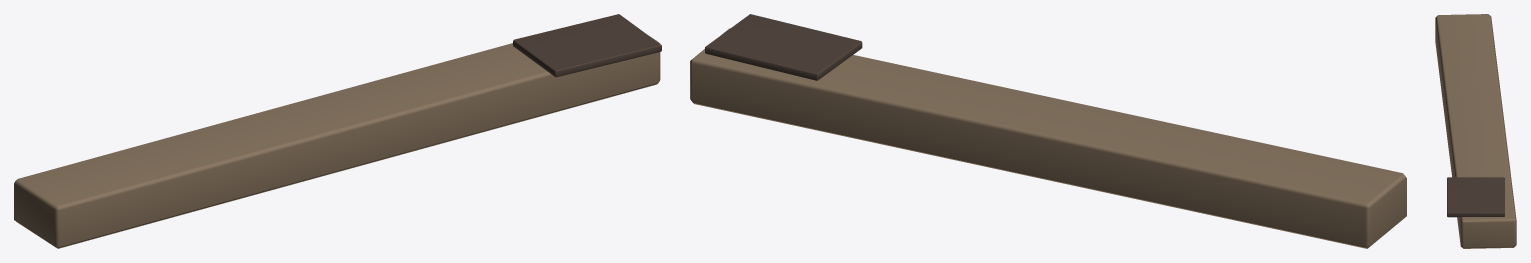
File: prop_wood_plank_01.glb
3 views of the same model, side by side, from view 1: azimuth 30°, elevation 25°; view 2: azimuth 150°, elevation 25°; view 3: azimuth 270°, elevation 25° (orthographic). The views are drawn at different scales.
Visible parts, largest first — view 1: wood_plank_long.001, wood_plank_dark_end.001; view 2: wood_plank_long.001, wood_plank_dark_end.001; view 3: wood_plank_long.001, wood_plank_dark_end.001.
Boxes of the visible parts, left/top/right/bottom form: wood_plank_long.001: left=14, top=36, right=660, bottom=248; wood_plank_dark_end.001: left=513, top=14, right=661, bottom=77; wood_plank_long.001: left=690, top=28, right=1406, bottom=248; wood_plank_dark_end.001: left=705, top=14, right=862, bottom=80; wood_plank_long.001: left=1435, top=14, right=1516, bottom=248; wood_plank_dark_end.001: left=1447, top=177, right=1504, bottom=217.
Size of the model in its own units: 1.05 by 0.081 by 0.1742.
